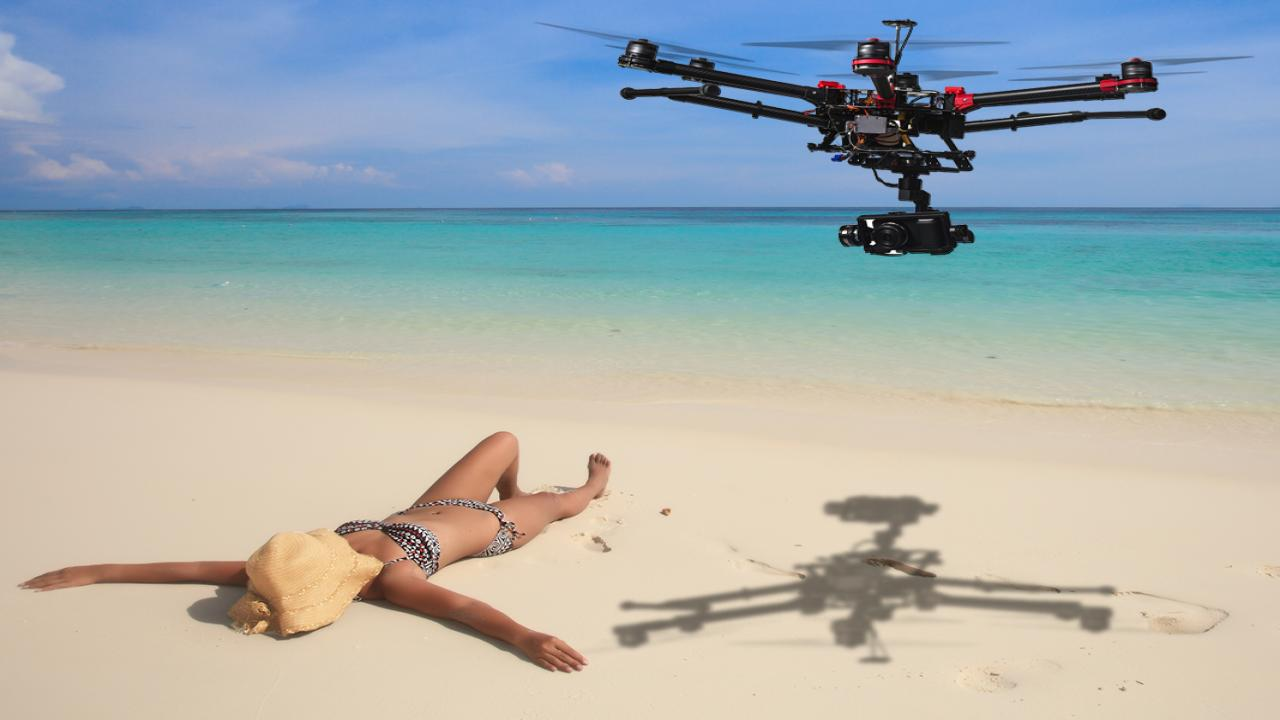Drone: (522, 0, 1263, 269)
